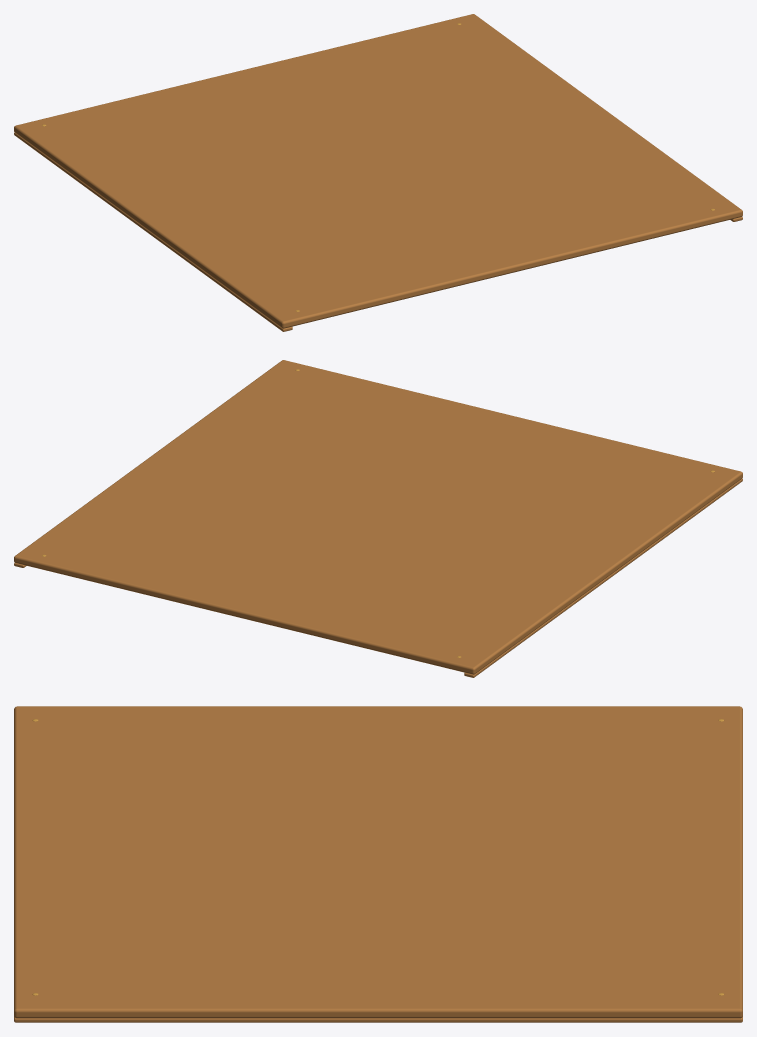
Rendered from chair-back-stable-light.glb.
3 renders of one model, top to bottom at view 1: azimuth 30°, elevation 25°; view 2: azimuth 150°, elevation 25°; view 3: azimuth 270°, elevation 25°, orthographic. The views are drawn at different scales.
Parts seen in each view (by area): view 1: wood; view 2: wood; view 3: wood.
Part boxes in pixels (<box>): wood: <box>14,14,742,331</box>; wood: <box>14,360,742,677</box>; wood: <box>14,706,742,1022</box>.
Bounding box in the file's own units: 10 × 0.221 × 10.12.
